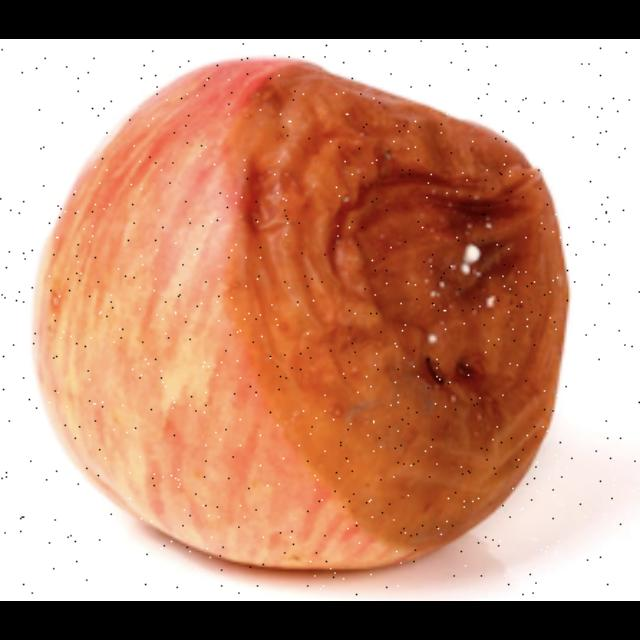Apel Tidak Segar: (35, 60, 575, 574)
